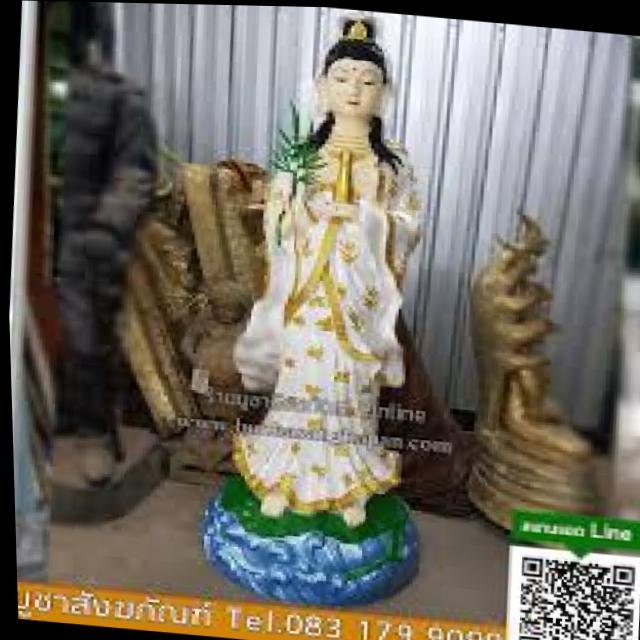Guan Yin: (238, 4, 451, 387)
